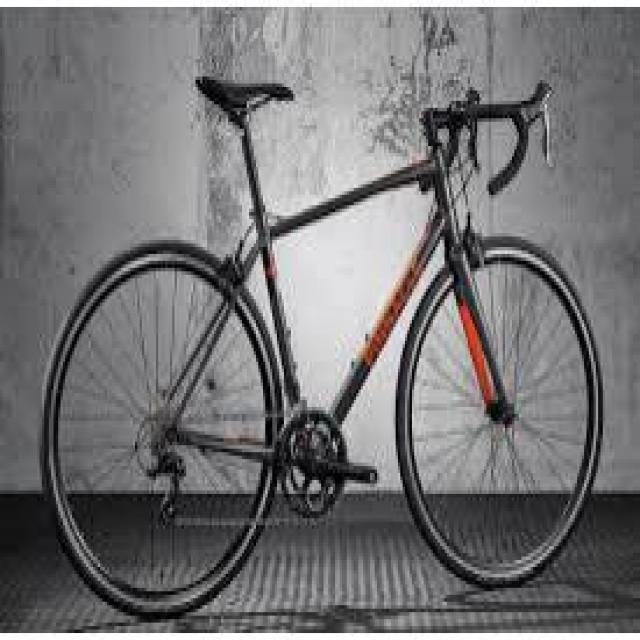bicycle: (73, 67, 590, 572)
